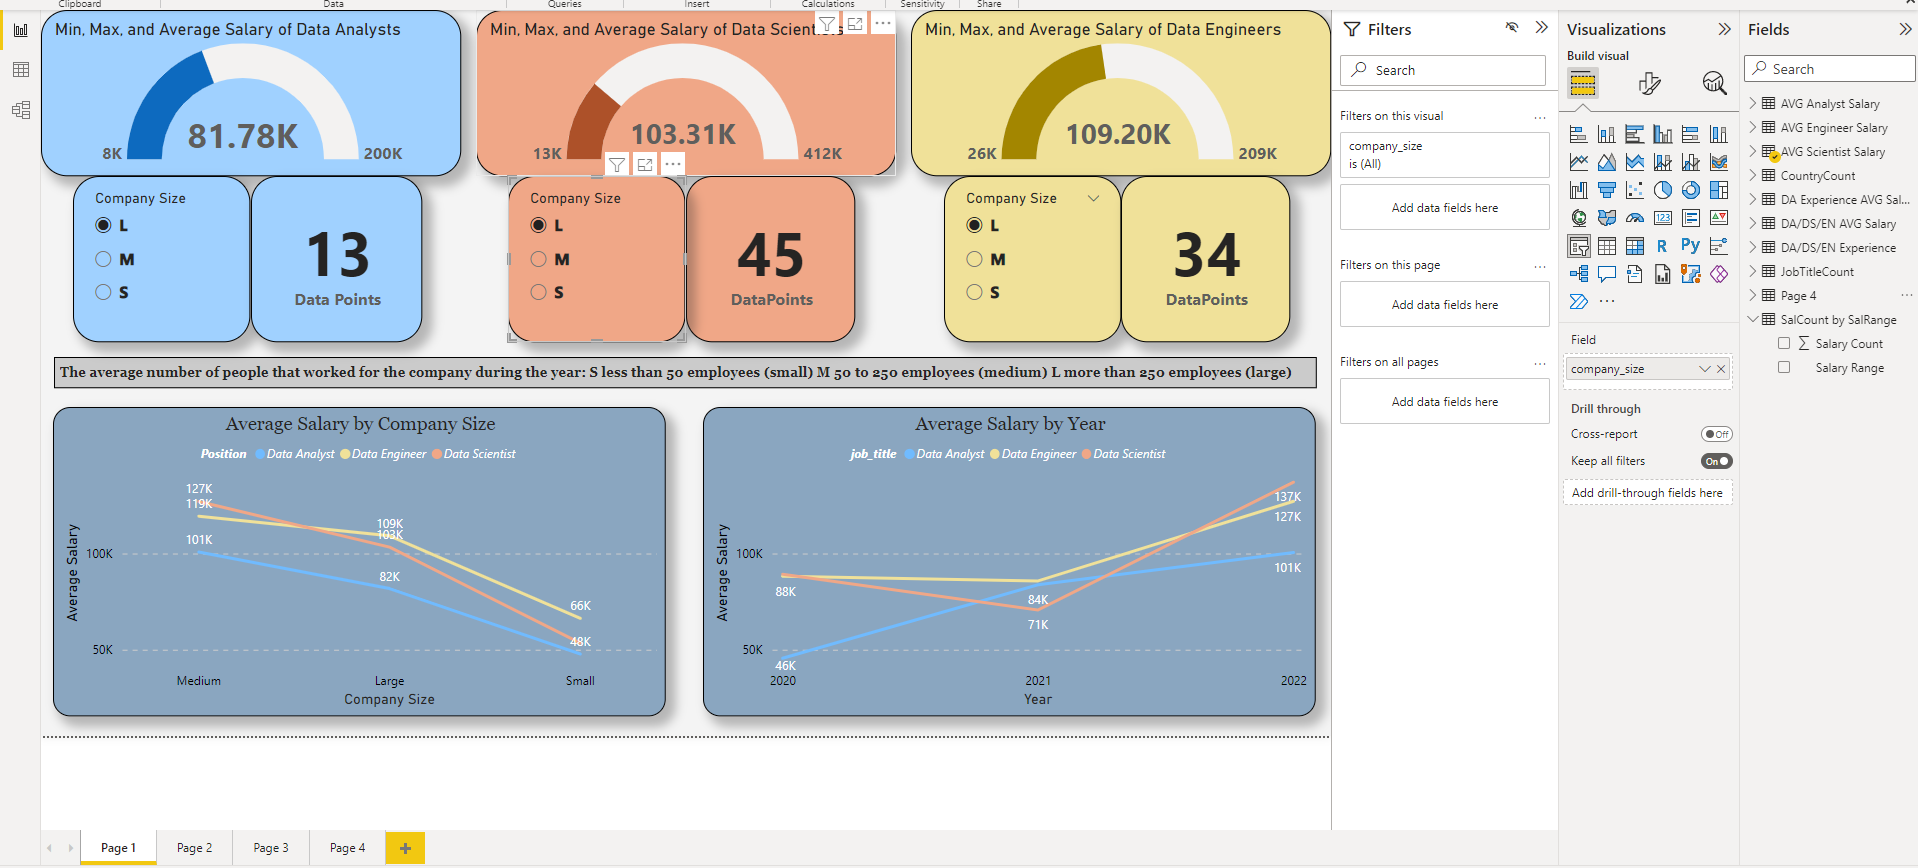

This screenshot's page, from the dashboard's own definition file:
{"tool":"powerbi","page":{"name":"Page 1","canvas":[1280,720],"ordinal":0},"visuals":[{"type":"gauge","title":"Min, Max, and Average Salary of Data Analysts","fields":{"MaxValue":["Max(Sheet1.MaxSalary)"],"MinValue":["Min(Sheet1.MinSalary)"],"Y":["Avg(Sheet1.AverageSalary)"]},"box":[0,0,416.7,164.9],"z":0},{"type":"slicer","fields":{"Values":["Sheet1.company_size"]},"box":[31.9,164.9,176.5,164.9],"z":1000},{"type":"card","fields":{"Values":["Sum(AVG Analyst Salary.Data Points)"]},"box":[208.4,164.9,170.2,164.9],"z":2000},{"type":"gauge","title":"Min, Max, and Average Salary of Data Scientists","fields":{"Y":["Avg(Sheet1.AverageSalary)"],"MaxValue":["Max(Sheet1.MaxSalary)"],"MinValue":["Min(Sheet1.MinSalary)"]},"box":[431.8,0,416.7,164.9],"z":3000},{"type":"slicer","fields":{"Values":["Sheet1.company_size"]},"box":[463.7,164.9,176.5,164.9],"z":4000},{"type":"card","fields":{"Values":["Sum(Sheet1.DataPoints)"]},"box":[640.2,164.9,168.5,164.9],"z":5000},{"type":"gauge","title":"Min, Max, and Average Salary of Data Engineers","fields":{"Y":["Avg(AVG Engineer Salary.AverageSalary)"],"MinValue":["Min(AVG Engineer Salary.MinSalary)"],"MaxValue":["Max(AVG Engineer Salary.MaxSalary)"]},"box":[863.6,0,416.7,164.9],"z":6000},{"type":"slicer","fields":{"Values":["AVG Engineer Salary.company_size"]},"box":[895.6,164.9,176.5,164.9],"z":7000},{"type":"card","fields":{"Values":["Sum(AVG Engineer Salary.DataPoints)"]},"box":[1072,164.9,168.5,164.9],"z":8000},{"type":"textbox","box":[12.9,344.3,1253.2,30.8],"z":9000},{"type":"lineChart","title":"Average Salary by Company Size","fields":{"Y":["Avg(Sheet1 (3).salary_in_usd)"],"Category":["Sheet1 (3).CompanySize"],"Series":["Sheet1 (3).job_title"]},"box":[11.9,393.9,608.2,306.6],"z":10000},{"type":"lineChart","title":"Average Salary by Year","fields":{"Category":["Sheet1 (3).work_year"],"Y":["Avg(Sheet1 (3).salary_in_usd)"],"Series":["Sheet1 (3).job_title"]},"box":[656.9,393.9,608.2,306.6],"z":11000}]}

Visuals, with their boxes on the page's 1280x720 design canvas (x1, y1, x2, y2). These are canvas units, not pixel positions in the 1918x868 screenshot, which may show the page scaled, cropped or inside an application window:
"Min, Max, and Average Salary of Data Analysts" gauge: 0/0/417/165
slicer - Sheet1.company_size: 32/165/208/330
card - Sum(AVG Analyst Salary.Data Points): 208/165/379/330
"Min, Max, and Average Salary of Data Scientists" gauge: 432/0/848/165
slicer - Sheet1.company_size: 464/165/640/330
card - Sum(Sheet1.DataPoints): 640/165/809/330
"Min, Max, and Average Salary of Data Engineers" gauge: 864/0/1280/165
slicer - AVG Engineer Salary.company_size: 896/165/1072/330
card - Sum(AVG Engineer Salary.DataPoints): 1072/165/1240/330
textbox: 13/344/1266/375
"Average Salary by Company Size" lineChart: 12/394/620/700
"Average Salary by Year" lineChart: 657/394/1265/700
